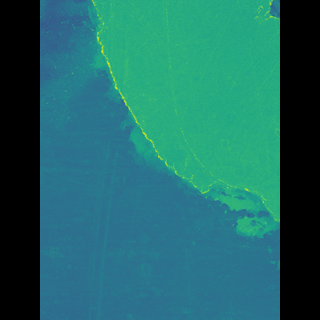Loch: (100, 0, 250, 245)
